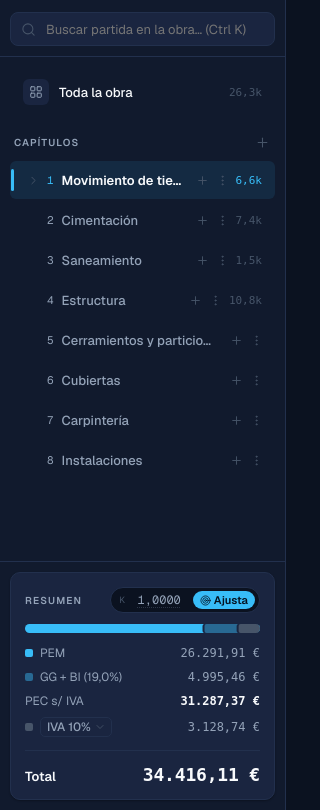
Sidebar — coeficiente K (Fase B) › el K se aplica al pinchar fuera, sin pulsar Enter
Click the button named "Coeficiente K": point(159, 600) [132,589,187,611]
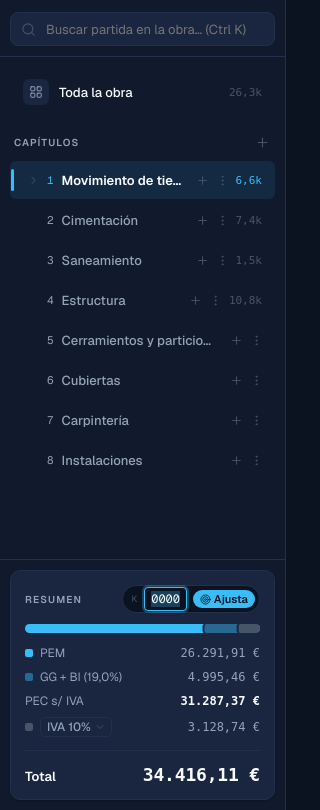
Replace the text in the field named "Coeficiente K" with "1,1": point(165, 599) [144,587,187,611]
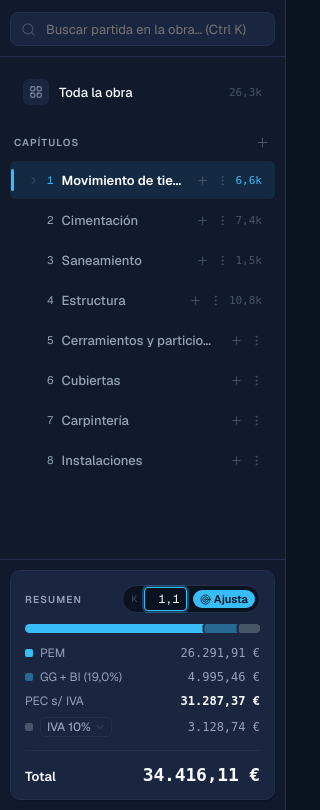
Leave the field named "Coeficiente K", box [144,587,187,611]
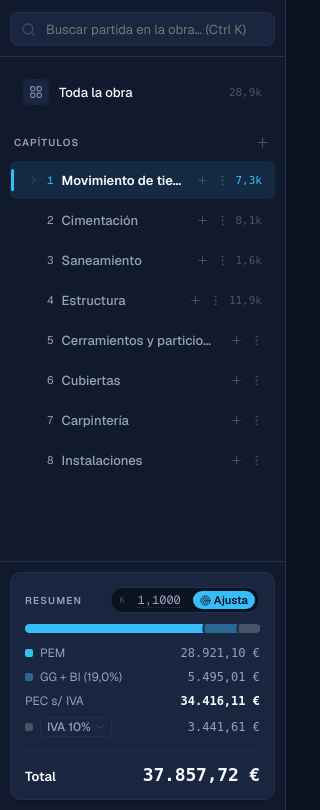
Check: the button named "Coeficiente K" reads "1,1000", box [132,589,187,611]
